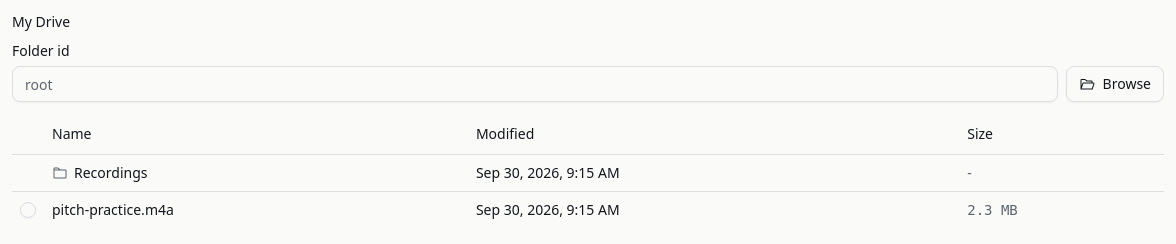
folder rows render first, have no checkbox, and clicking one navigates in and builds a breadcrumb
Expected: the text "Recordings" is shown, [74,162,148,182]
Click the button "Recordings": [100, 172] box [52,162,148,182]
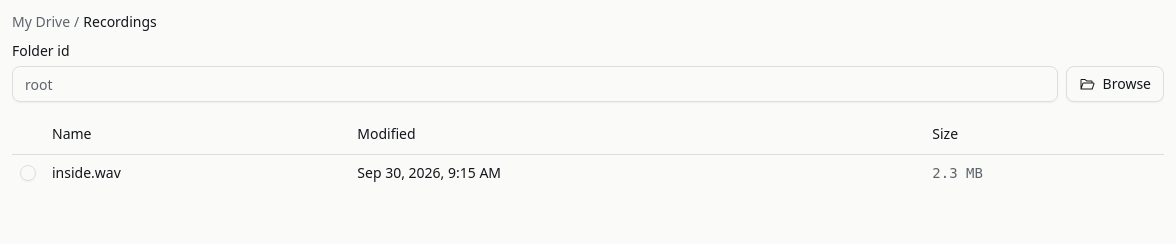
Expected: the button "Recordings" is shown, [83,12,157,32]
Now the text "inside.wav" is shown, box [44,154,349,190]
Now the text "pitch-practice.m4a" is gone
Click the button "My Drive": [41, 22] box [12,12,70,32]
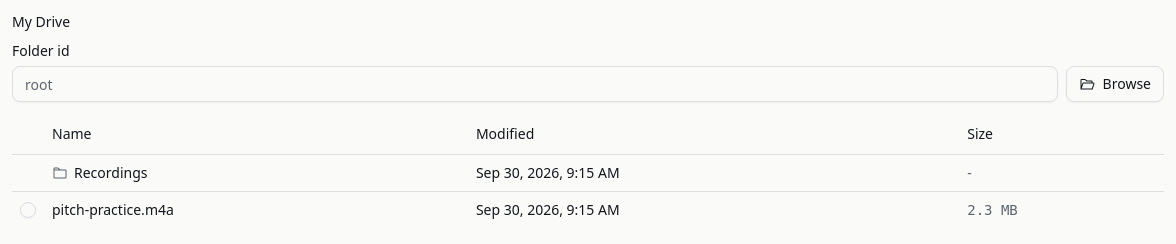
Now the text "pitch-practice.m4a" is shown, box [44,191,468,228]
Now the text "inside.wav" is gone
